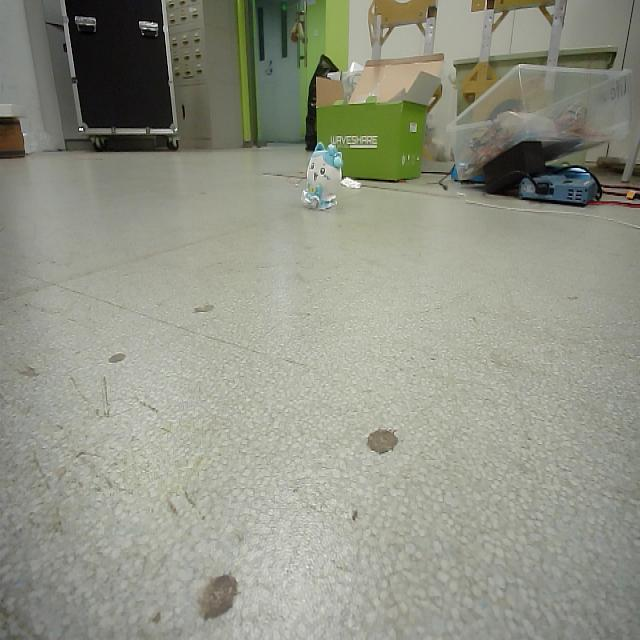xiaoba: (298, 142, 349, 213)
